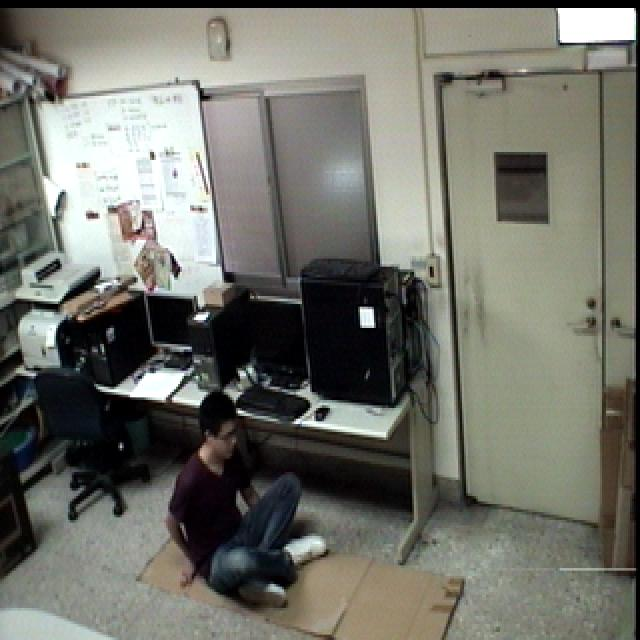sit: (160, 385, 335, 616)
